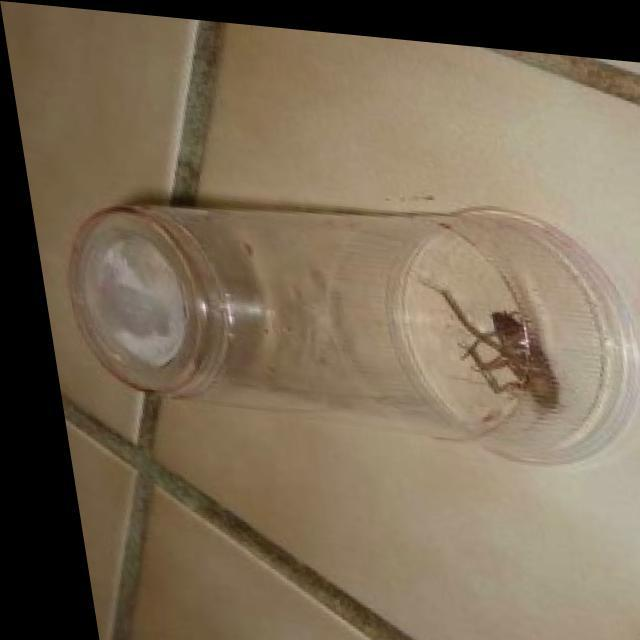cockroach: (414, 269, 564, 423)
